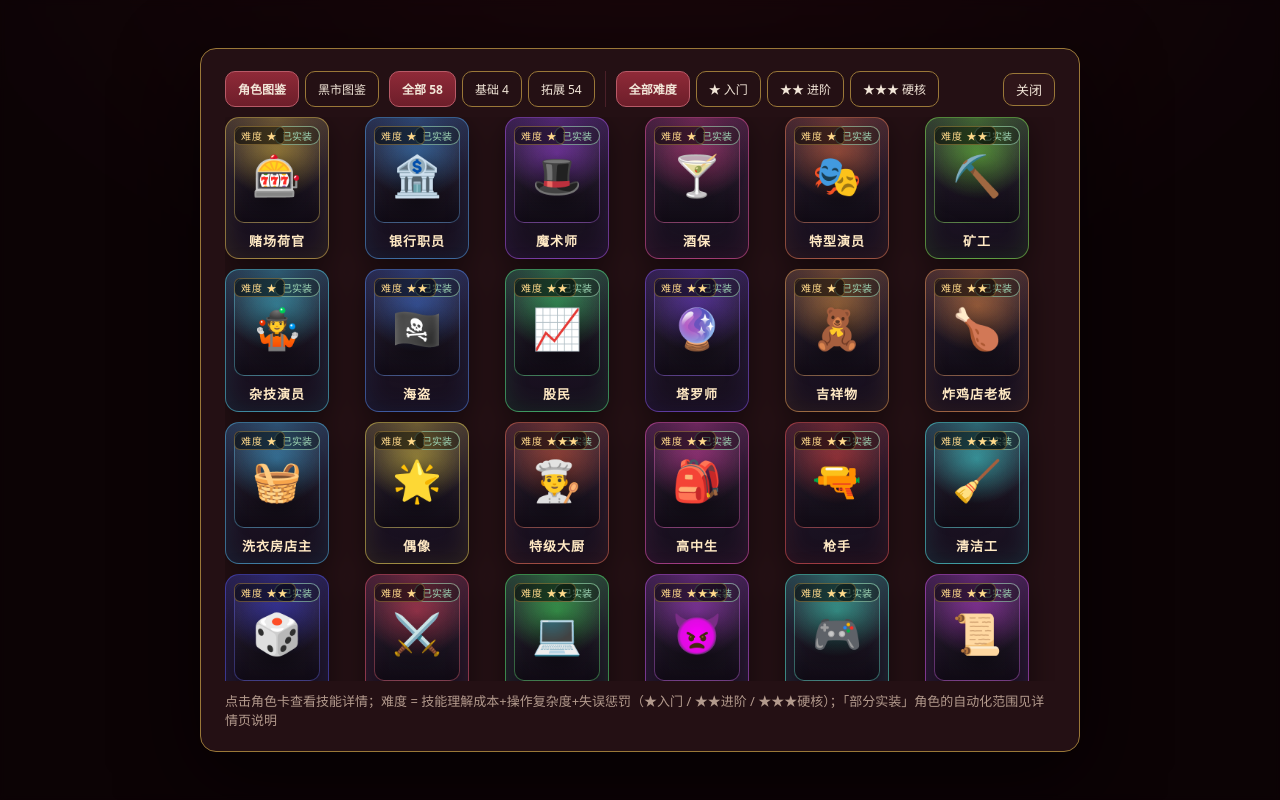
it: CodexModal · 图鉴弹层 › 点击角色卡打开详情弹层，点遮罩关闭
This screenshot has width=1280, height=800.
Click the text "赌场荷官": (277, 241) [249,232,305,250]
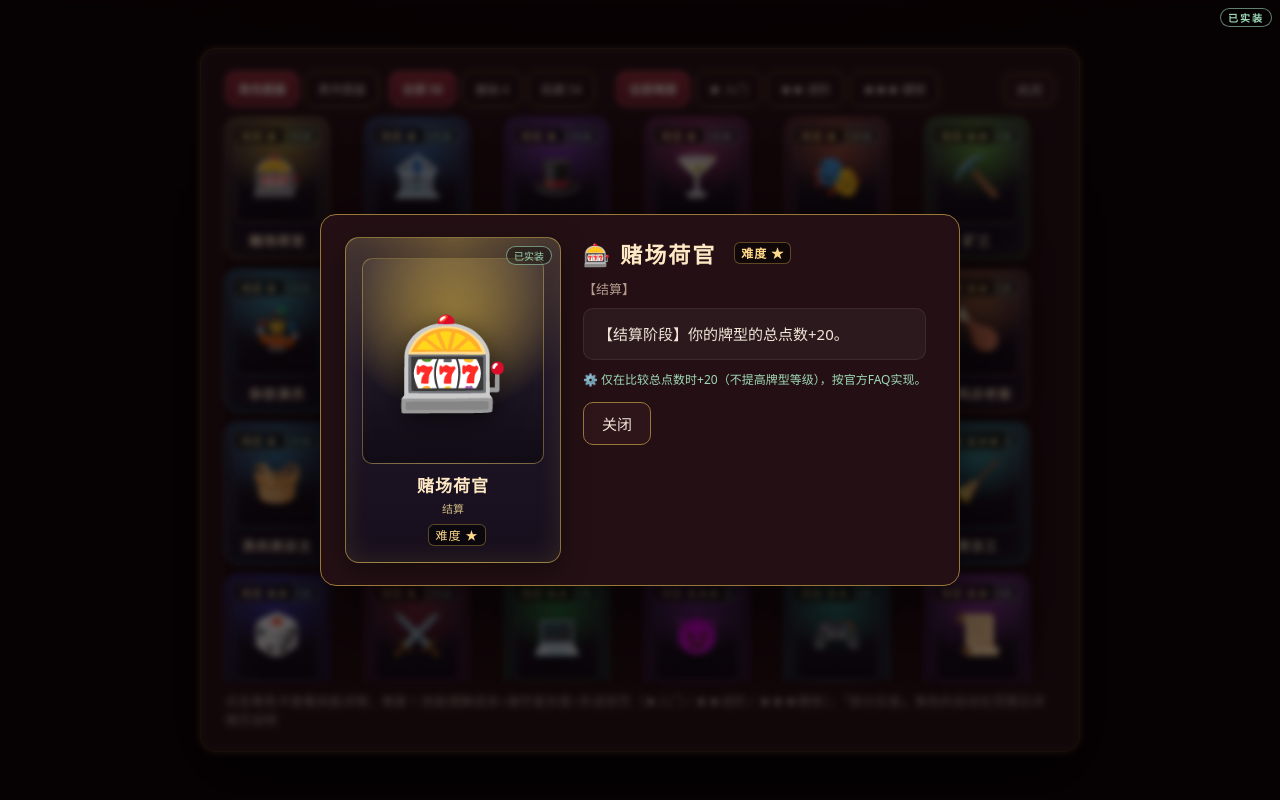
expect the element with class "char-detail" is shown: met
Note: 点遮罩（overlay 本体，panel 已 stopPropagation）关闭；fireEvent 包 act 保证状态刷新
Click the element with class "char-detail": (77, 400) [0,0,1279,799]
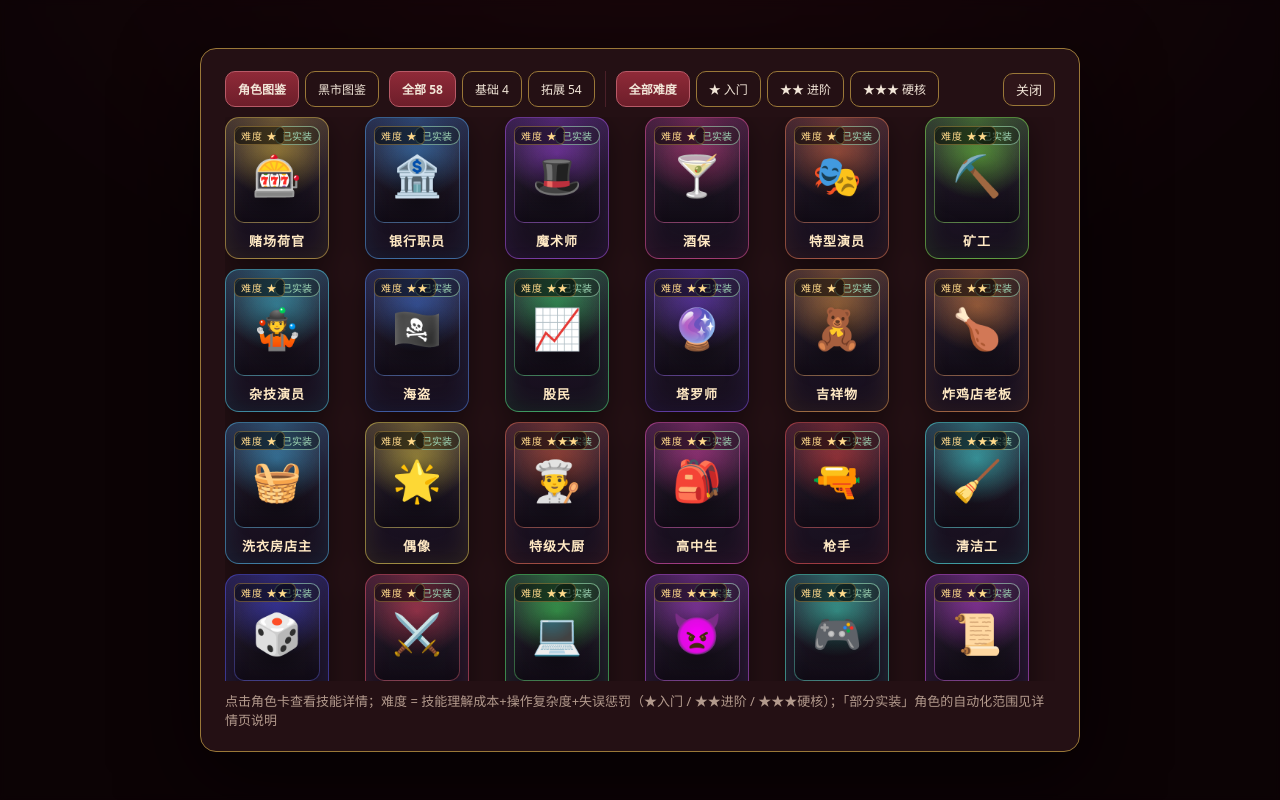
expect the element with class "char-detail" is gone: met
